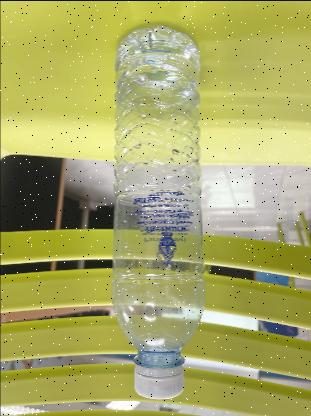Plastic Bottle: (112, 23, 200, 400)
